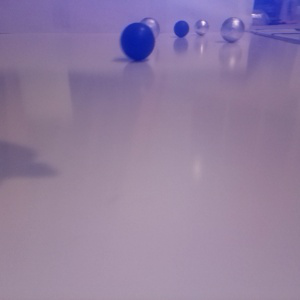alive_ball: (220, 17, 245, 42), (138, 17, 160, 41), (194, 19, 210, 36)
dead_ball: (119, 22, 156, 61), (173, 20, 190, 38)
